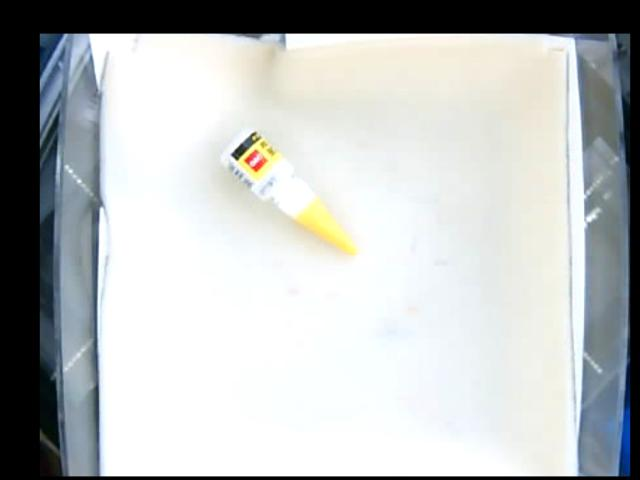Bottle: (221, 129, 355, 258)
